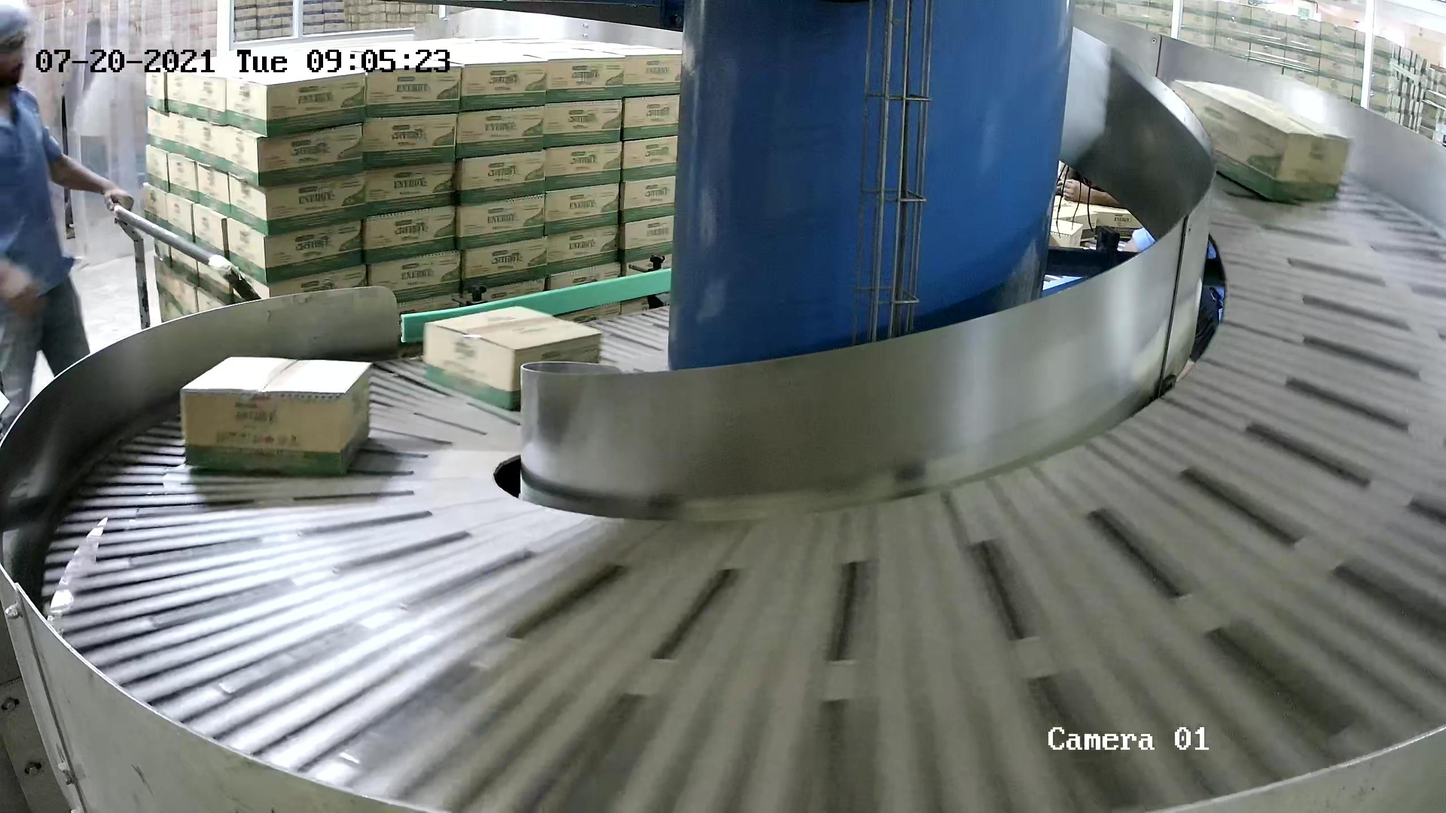Box: (1165, 78, 1354, 205), (179, 355, 372, 477), (421, 305, 603, 411)
